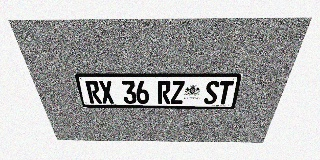3: (121, 81, 136, 104)
6: (135, 81, 149, 104)
R: (85, 80, 102, 104), (158, 81, 171, 104)
S: (203, 81, 220, 104)
T: (216, 81, 234, 104)
X: (98, 81, 115, 104)
Z: (171, 81, 185, 104)
